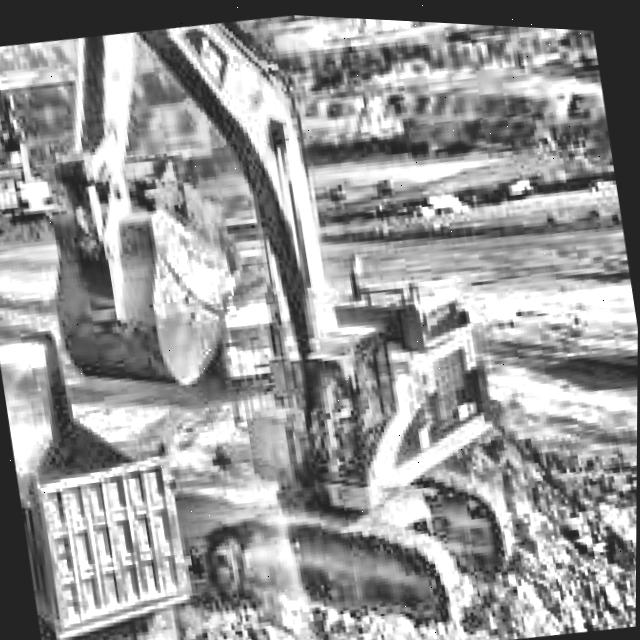dump_truck: (0, 328, 216, 640)
excavator: (10, 1, 538, 640)
